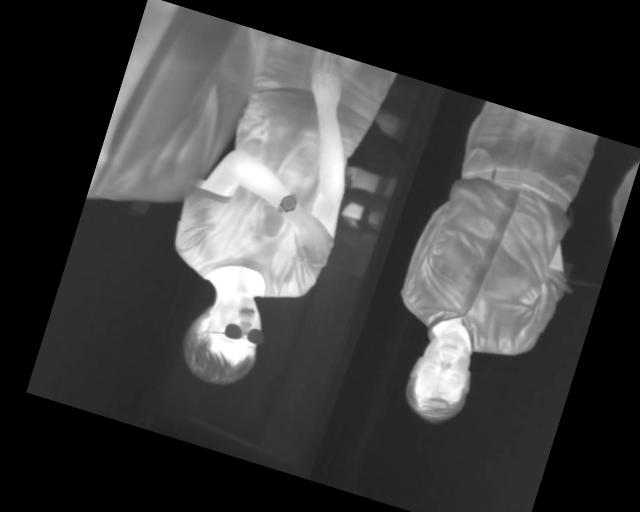face: (173, 279, 274, 395), (397, 323, 486, 433)
